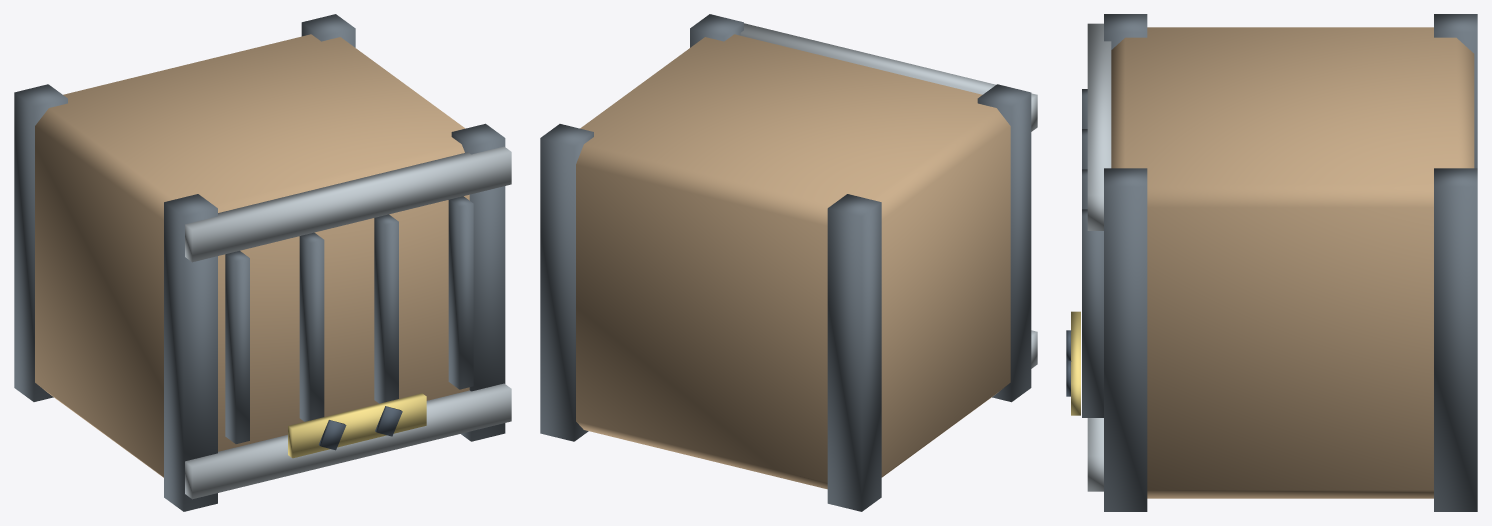
The model's file is crate_enhanced.glb.
3 renders of one model, left to right at view 1: azimuth 30°, elevation 25°; view 2: azimuth 150°, elevation 25°; view 3: azimuth 270°, elevation 25°, orthographic. The views are drawn at different scales.
Parts seen in each view (by area): view 1: Container_wood, Frame_dark, Frame_steel, Ribs_dark, Detail_yellow, Detail_black; view 2: Container_wood, Frame_dark, Frame_steel; view 3: Container_wood, Frame_dark, Frame_steel, Ribs_dark, Detail_yellow.
Part boxes in pixels (x1=…): Container_wood: x1=35, y1=34, x2=469, y2=477; Frame_dark: x1=14, y1=14, x2=505, y2=511; Frame_steel: x1=185, y1=146, x2=511, y2=499; Ribs_dark: x1=225, y1=196, x2=473, y2=443; Detail_yellow: x1=288, y1=393, x2=426, y2=458; Detail_black: x1=318, y1=406, x2=402, y2=450; Container_wood: x1=576, y1=34, x2=1010, y2=489; Frame_dark: x1=540, y1=14, x2=1031, y2=511; Frame_steel: x1=740, y1=23, x2=1037, y2=368; Container_wood: x1=1111, y1=27, x2=1474, y2=498; Frame_dark: x1=1104, y1=14, x2=1477, y2=511; Frame_steel: x1=1087, y1=23, x2=1111, y2=491; Ribs_dark: x1=1082, y1=89, x2=1103, y2=417; Detail_yellow: x1=1071, y1=311, x2=1080, y2=415.
Bounding box in the file's own units: 1.04 × 0.91 × 1.04.
